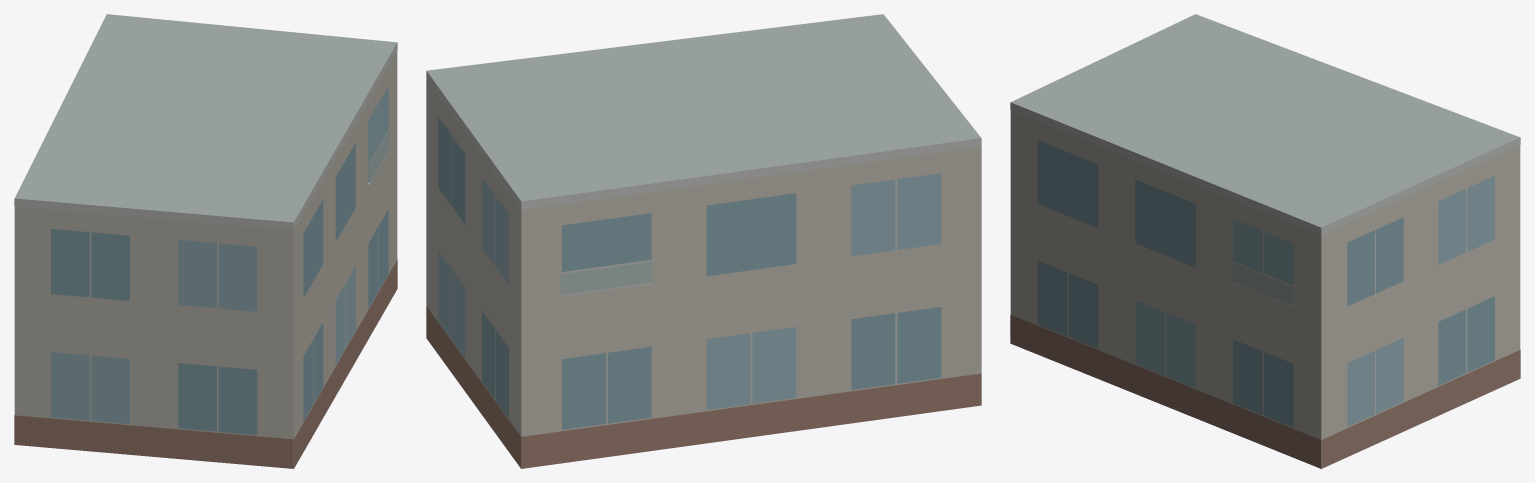
The model's file is survey-upis-32883704.glb.
3 renders of one model, left to right at view 1: azimuth 30°, elevation 25°; view 2: azimuth 150°, elevation 25°; view 3: azimuth 270°, elevation 25°, orthographic. The views are drawn at different scales.
Parts seen in each view (by area): view 1: survey-upis-32883704.tmp; view 2: survey-upis-32883704.tmp; view 3: survey-upis-32883704.tmp.
Boxes of the visible parts, <box> form: survey-upis-32883704.tmp: <box>14,14,397,468</box>; survey-upis-32883704.tmp: <box>426,14,981,468</box>; survey-upis-32883704.tmp: <box>1010,14,1520,468</box>.
Size of the model in its own units: 14.45 by 7.6 by 14.57.
